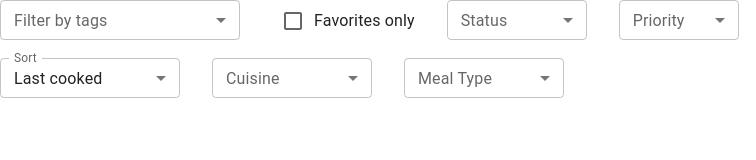
Test: RecipeFilterBar Component › Tag filter › should show "No tags available" when availableTags is empty
# Open the dropdown
Click the dropdown named "filter by tags" next to "Filter by tags".
click(120, 20)  # box [0,0,240,40]
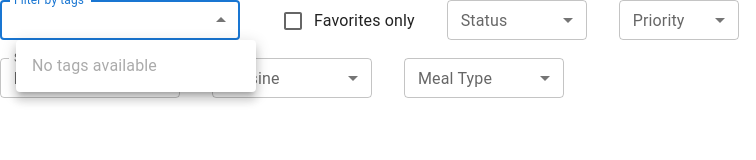
Now the option "No tags available" is shown, box [32,56,157,75]
